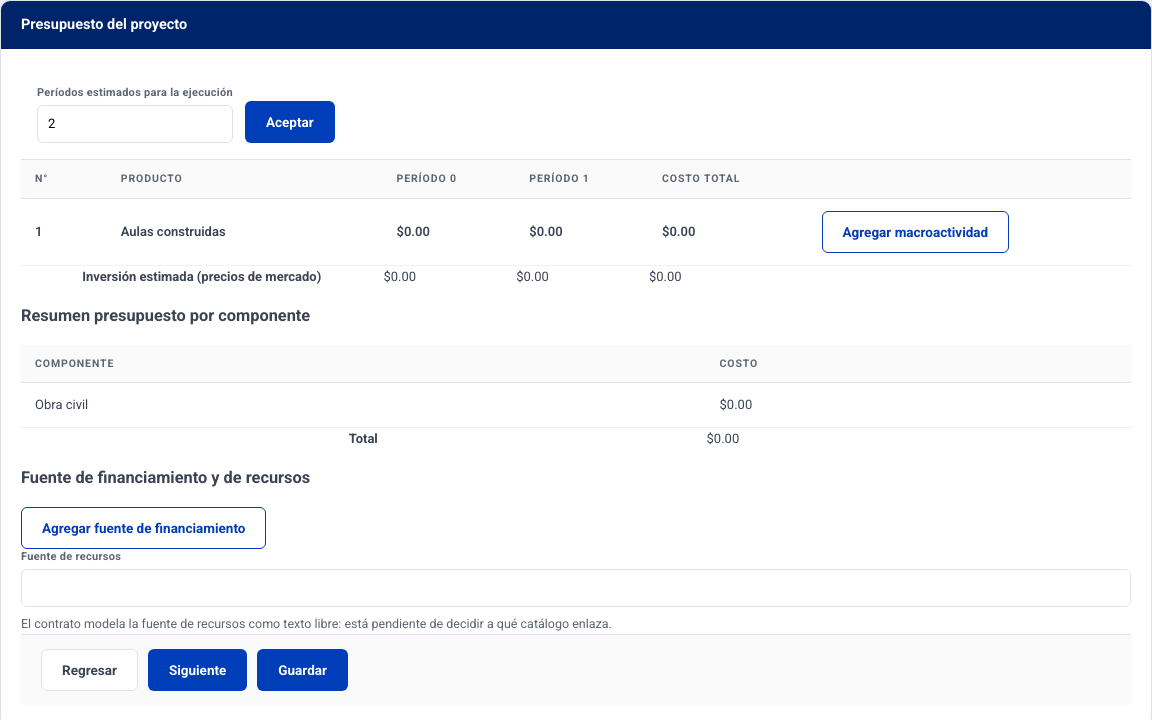
Test: PresupuestoPage · CU-PRE-17 › genera las columnas al aceptar la cantidad de períodos
Expected: the column heading "PERÍODO 0" is shown, [382, 160, 515, 198]
Replace the text in the number field labelled "Períodos estimados para la ejecución" with "3" at (135, 124), box [37, 105, 233, 143]
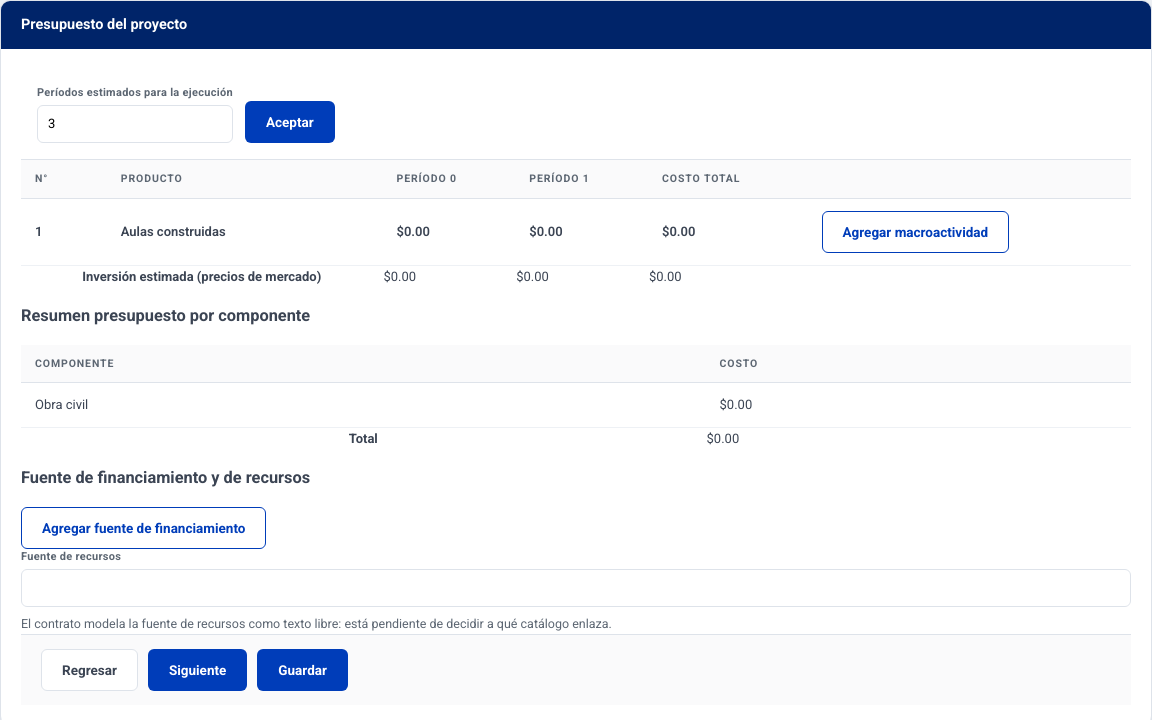
Click the button "Aceptar" at (290, 122), box [245, 100, 335, 143]
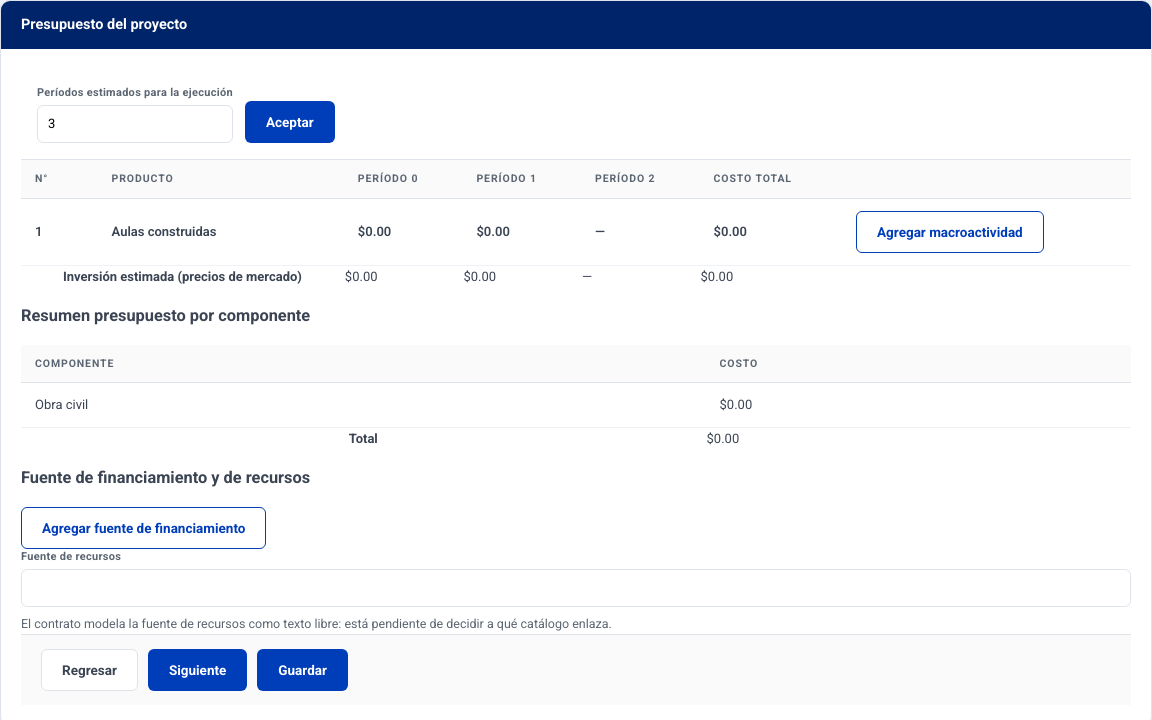
Expected: the column heading "PERÍODO 2" is shown, [581, 160, 700, 198]
